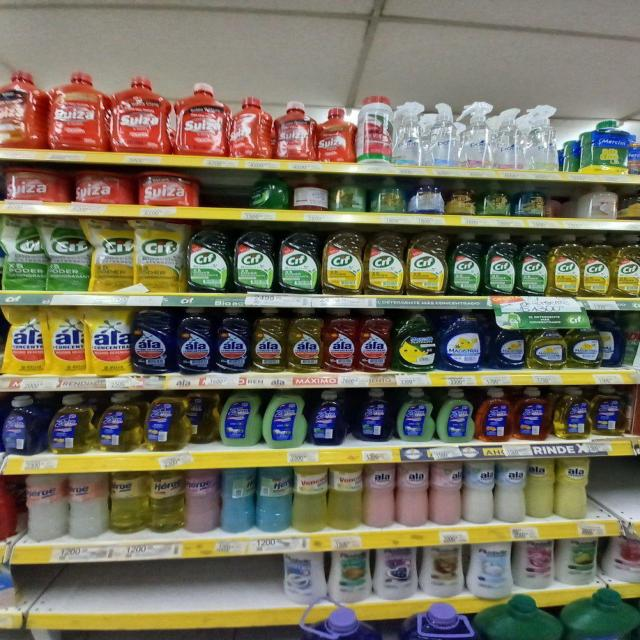ala_conc_amarillo: (287, 307, 322, 374), (252, 307, 286, 373)
ala_conc_azul: (132, 306, 173, 374), (175, 306, 213, 374), (214, 306, 250, 374)
ala_conc_rojo: (358, 308, 392, 373), (324, 307, 356, 373)
ala_crem_amarillo: (556, 455, 592, 520), (527, 456, 555, 520)
ala_crem_blanco: (463, 458, 495, 525), (496, 457, 526, 523)
ala_crem_rosado: (397, 460, 429, 528), (430, 458, 462, 526), (364, 461, 395, 529)
ala_sachet_amarillo: (88, 305, 131, 376), (4, 304, 45, 376), (47, 304, 86, 376)
cif_conc_bot_amarilla: (321, 229, 363, 295), (365, 229, 404, 296), (407, 231, 446, 296), (549, 234, 580, 297), (581, 235, 611, 298), (612, 234, 639, 298)
cif_conc_botella_verde: (187, 222, 231, 293), (233, 226, 276, 294), (278, 228, 320, 294), (448, 232, 482, 296), (484, 232, 516, 296), (517, 233, 548, 296)
cif_conc_sachet_amarillo: (135, 219, 184, 293), (90, 217, 134, 292)
cif_conc_sachet_verde: (46, 216, 88, 292), (3, 214, 44, 291)
heroe: (23, 472, 66, 542), (68, 471, 108, 540), (256, 465, 292, 534), (293, 464, 327, 532), (185, 468, 219, 534), (150, 469, 183, 534)
magistral_con_amarillo: (567, 318, 601, 370), (528, 326, 565, 370)
magistral_con_azul: (438, 309, 485, 371), (489, 312, 526, 370), (601, 314, 622, 368)
magistral_con_verde: (398, 308, 440, 368)
vencedor: (329, 462, 363, 531)
zorro: (144, 389, 188, 452), (49, 394, 94, 454), (264, 387, 306, 449), (98, 392, 140, 453), (3, 395, 45, 456), (219, 388, 261, 448), (353, 387, 394, 442), (309, 389, 347, 446), (396, 387, 435, 442), (513, 386, 550, 442), (438, 387, 474, 443), (476, 387, 512, 442), (553, 386, 589, 440), (590, 385, 625, 437), (186, 389, 216, 447)
